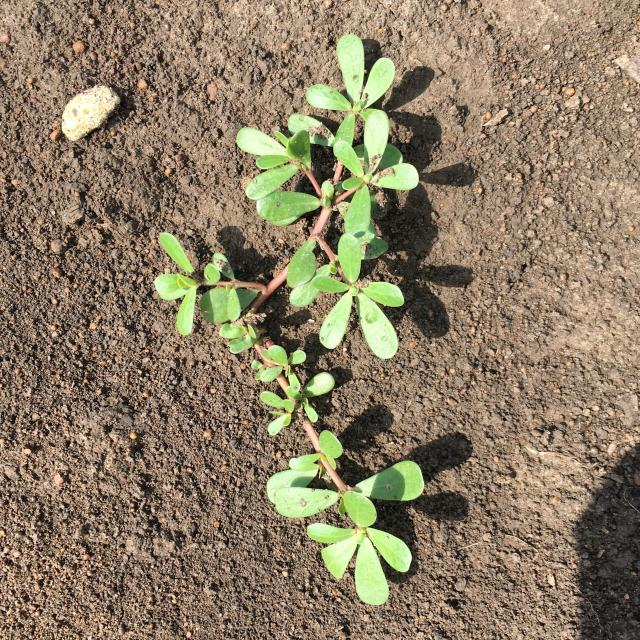Purslane: (154, 34, 424, 605)
